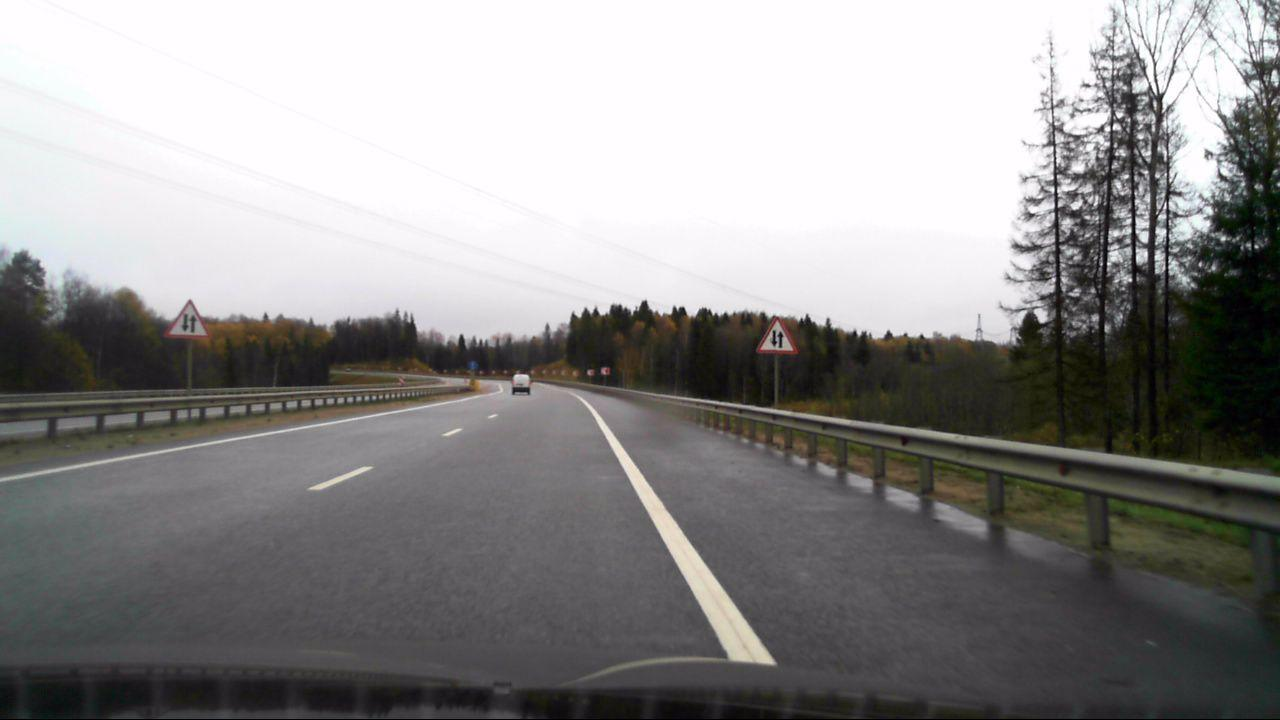1_21: (163, 294, 214, 341), (756, 316, 796, 354)
1_34_2: (600, 366, 611, 375), (560, 368, 568, 376), (541, 368, 549, 376), (587, 369, 595, 376), (572, 369, 579, 377), (551, 368, 558, 376), (530, 369, 536, 375), (491, 369, 497, 375), (503, 369, 508, 375), (516, 369, 520, 374)
